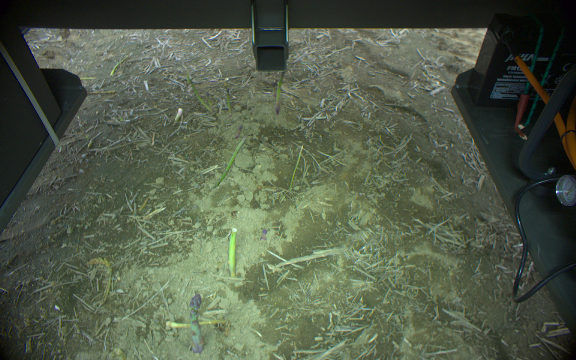aspa: (214, 137, 247, 190), (184, 73, 212, 112), (188, 294, 204, 353), (287, 144, 304, 191), (166, 318, 227, 329), (227, 226, 237, 278), (273, 72, 284, 114), (224, 79, 232, 116)
